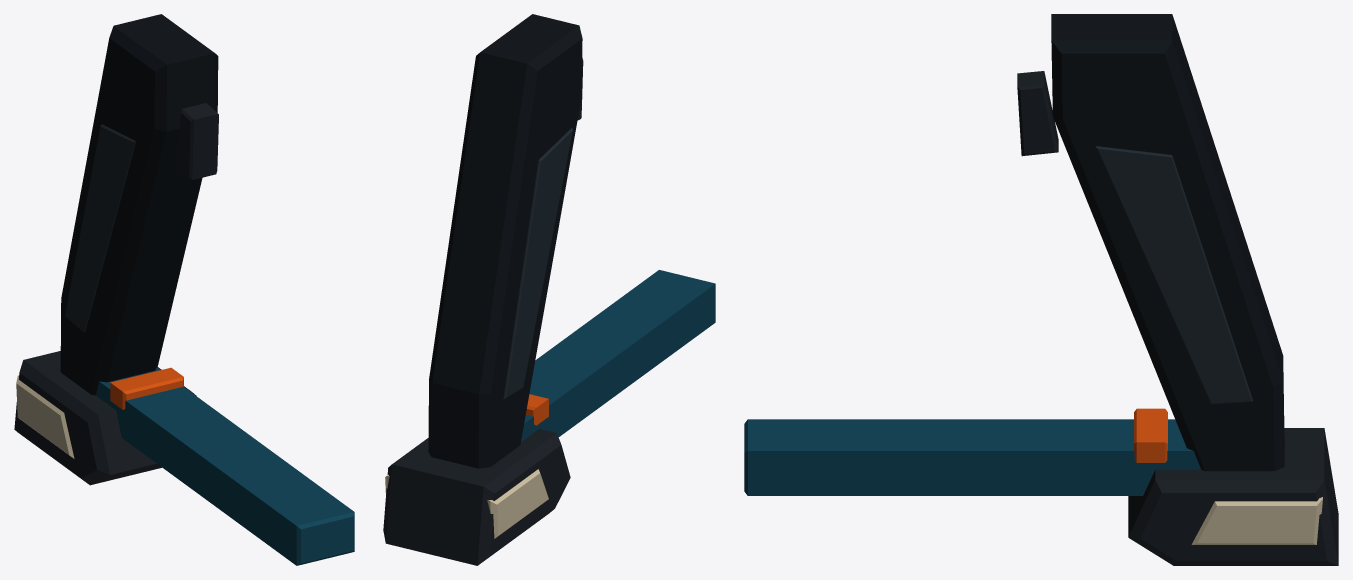
The model's file is NailgunBlue_Normal_Grip.obj.
3 views of the same model, side by side, from view 1: azimuth 30°, elevation 25°; view 2: azimuth 150°, elevation 25°; view 3: azimuth 270°, elevation 25° (orthographic). The views are drawn at different scales.
Visible parts, largest first — view 1: Rubber, PetrolBlue, FrameBlack, GripRings, Ivory, LatchOrange; view 2: Rubber, PetrolBlue, FrameBlack, GripRings, Ivory, LatchOrange; view 3: Rubber, PetrolBlue, FrameBlack, GripRings, Ivory, LatchOrange.
Part boxes in pixels (x1,y1,x2,y2): Rubber: (60, 14, 218, 395); PetrolBlue: (96, 367, 354, 565); FrameBlack: (14, 103, 218, 485); GripRings: (65, 124, 136, 332); Ivory: (16, 375, 74, 458); LatchOrange: (110, 367, 183, 409); Rubber: (428, 14, 582, 468); PetrolBlue: (521, 270, 715, 441); FrameBlack: (383, 58, 583, 565); GripRings: (503, 128, 572, 398); Ivory: (385, 469, 548, 538); LatchOrange: (526, 394, 548, 425); Rubber: (1051, 14, 1284, 471); PetrolBlue: (744, 419, 1200, 495); FrameBlack: (1017, 71, 1338, 565); GripRings: (1095, 146, 1253, 404); Ivory: (1191, 497, 1322, 544); LatchOrange: (1134, 408, 1167, 462).
Size of the model in its own units: 0.105 by 0.398 by 0.418.
